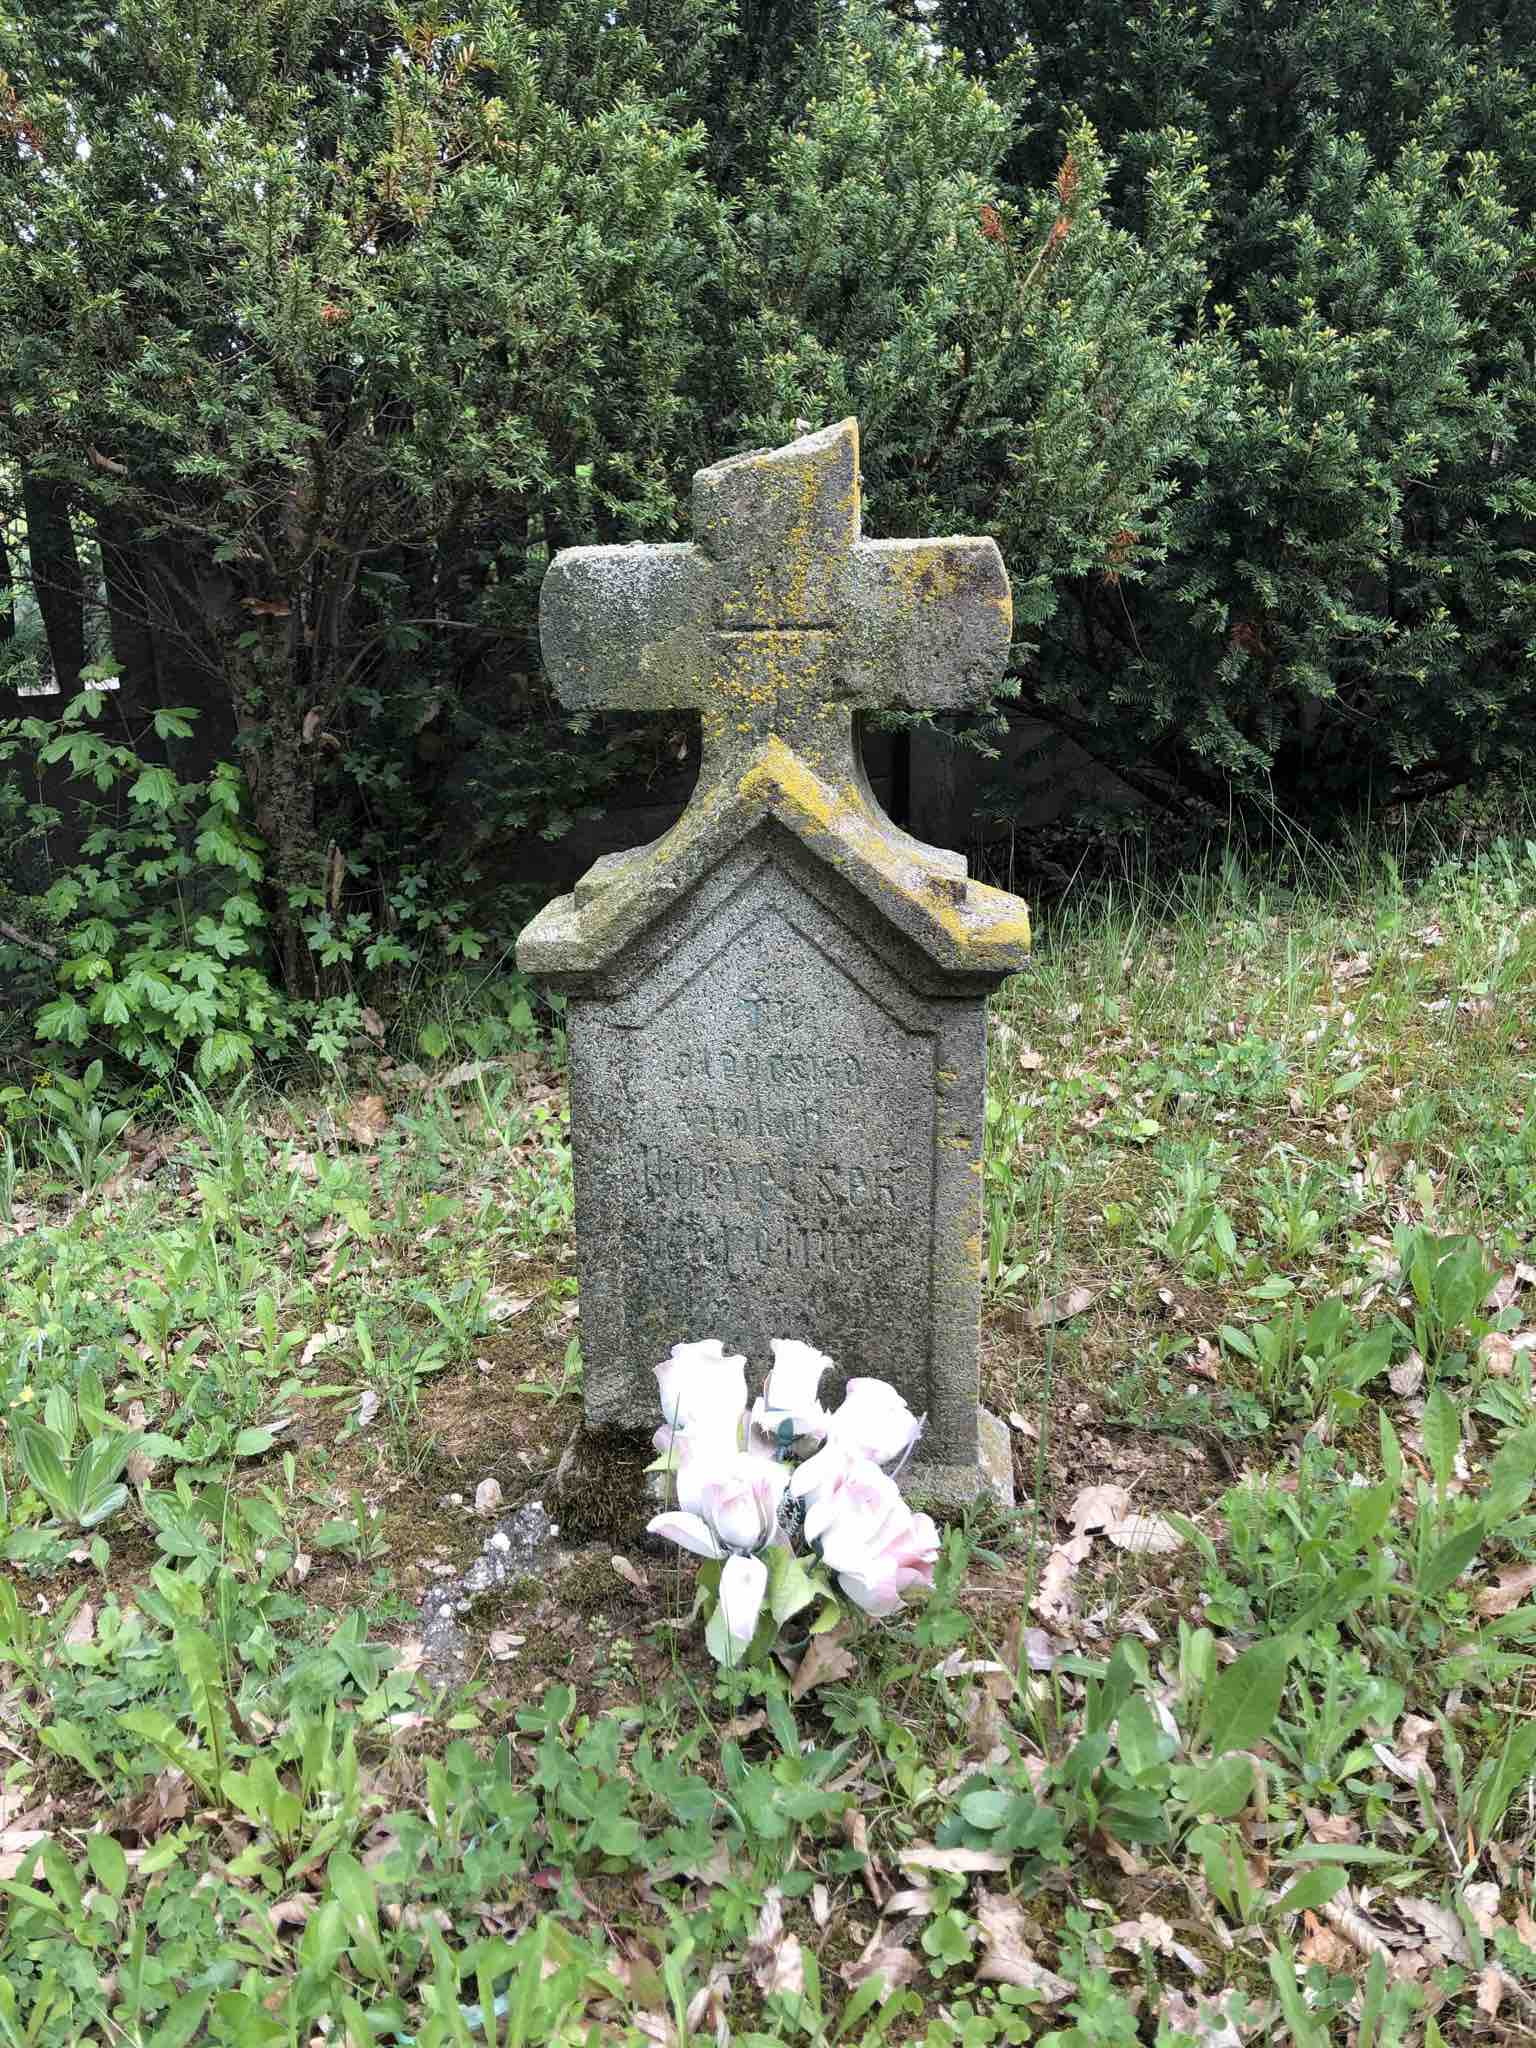upright: (465, 384, 1125, 1624)
